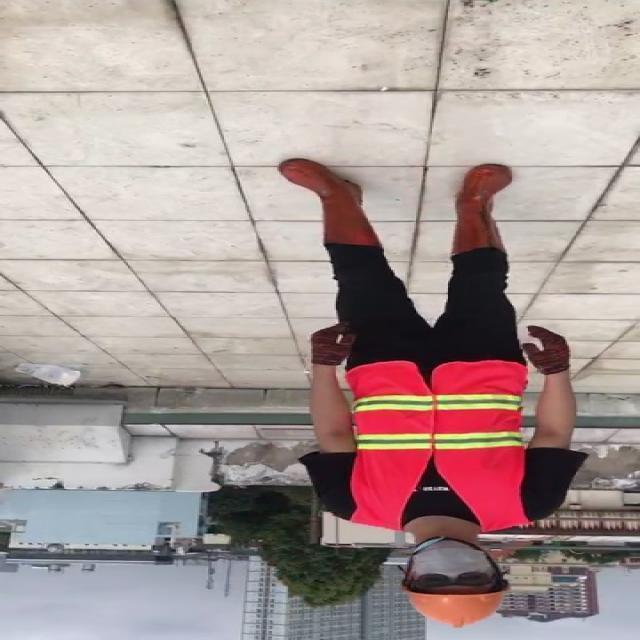Boots: (278, 159, 380, 250), (448, 165, 512, 258)
Gloves: (518, 325, 574, 375), (306, 320, 359, 368)
Helmet: (395, 583, 514, 630)
Vest: (343, 362, 525, 528)
